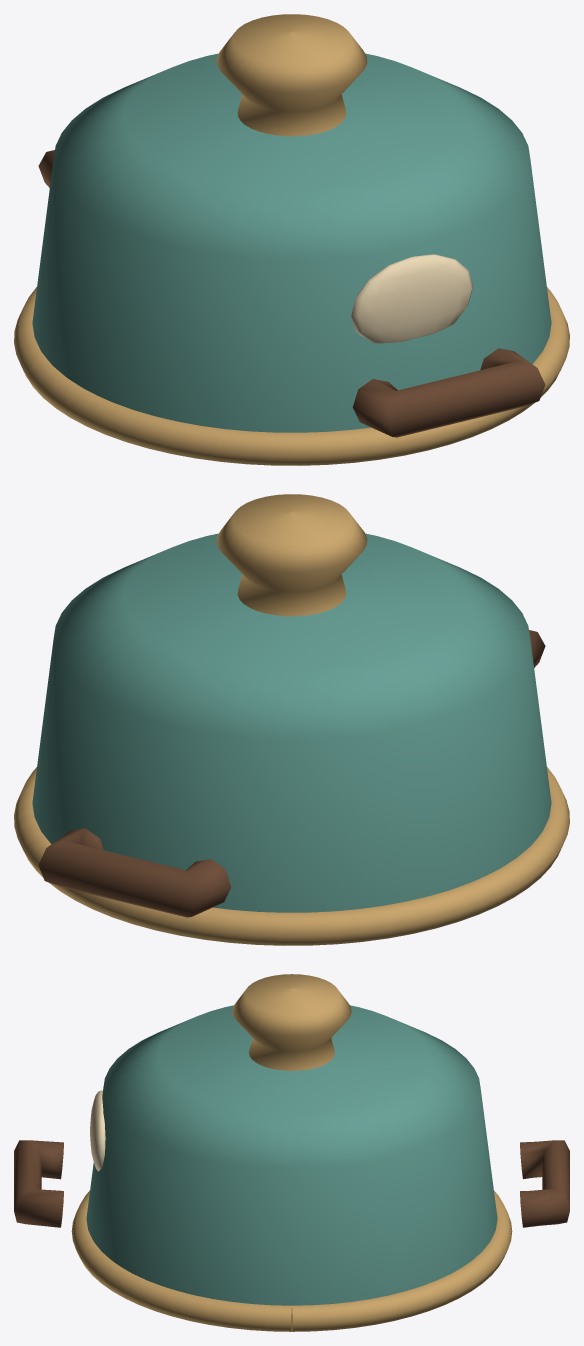
File: hat_cookpot_atelier.glb
3 renders of one model, top to bottom at view 1: azimuth 30°, elevation 25°; view 2: azimuth 150°, elevation 25°; view 3: azimuth 270°, elevation 25°, orthographic. The views are drawn at different scales.
Visible parts, largest first — view 1: hat_cookpot_atelier__Painted_hat_cookpot_crafted_Glaze, hat_cookpot_atelier__Painted_hat_cookpot_crafted_Metal, hat_cookpot_atelier__TaggedPainted_hat_cookpot_crafted_Matte; view 2: hat_cookpot_atelier__Painted_hat_cookpot_crafted_Glaze, hat_cookpot_atelier__Painted_hat_cookpot_crafted_Metal, hat_cookpot_atelier__TaggedPainted_hat_cookpot_crafted_Matte; view 3: hat_cookpot_atelier__Painted_hat_cookpot_crafted_Glaze, hat_cookpot_atelier__Painted_hat_cookpot_crafted_Metal, hat_cookpot_atelier__TaggedPainted_hat_cookpot_crafted_Matte.
Boxes of the visible parts, x1,y1,x2,y2 form: hat_cookpot_atelier__Painted_hat_cookpot_crafted_Glaze: (32,53,551,432); hat_cookpot_atelier__Painted_hat_cookpot_crafted_Metal: (14,14,569,465); hat_cookpot_atelier__TaggedPainted_hat_cookpot_crafted_Matte: (38,150,545,437); hat_cookpot_atelier__Painted_hat_cookpot_crafted_Glaze: (32,533,551,912); hat_cookpot_atelier__Painted_hat_cookpot_crafted_Metal: (14,494,569,945); hat_cookpot_atelier__TaggedPainted_hat_cookpot_crafted_Matte: (38,630,545,917); hat_cookpot_atelier__Painted_hat_cookpot_crafted_Glaze: (86,1005,497,1305); hat_cookpot_atelier__Painted_hat_cookpot_crafted_Metal: (71,974,512,1331); hat_cookpot_atelier__TaggedPainted_hat_cookpot_crafted_Matte: (14,1090,569,1227).
Bounding box in the file's own units: 0.56 × 0.359 × 0.7068.
